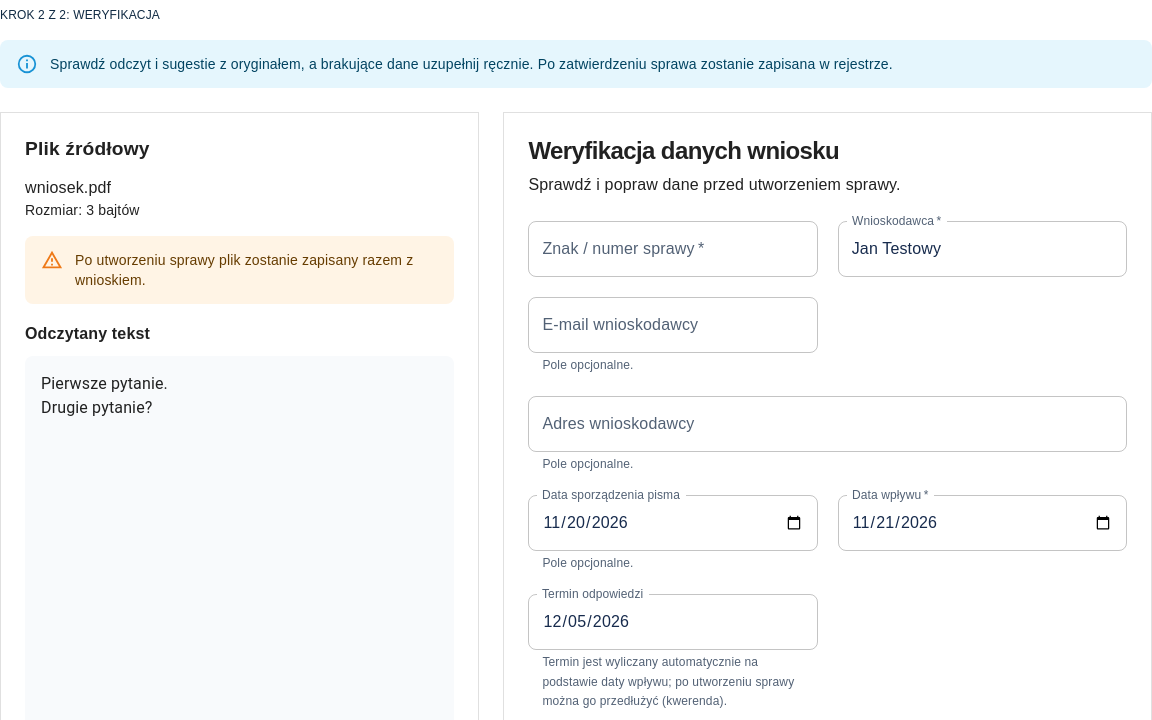
Test: request verification › creates the case through the API and moves to analysis with the backend id
expect the text "wniosek.pdf" is shown: met, box [25,179,111,196]
expect the text "Termin jest wyliczany automatycznie" is shown: met, box [542,655,794,708]
Type "  NOWA/1  " into the field labelled "Znak / numer sprawy *" at coordinates (673, 249), box [528,221,818,277]
(page scrolled)
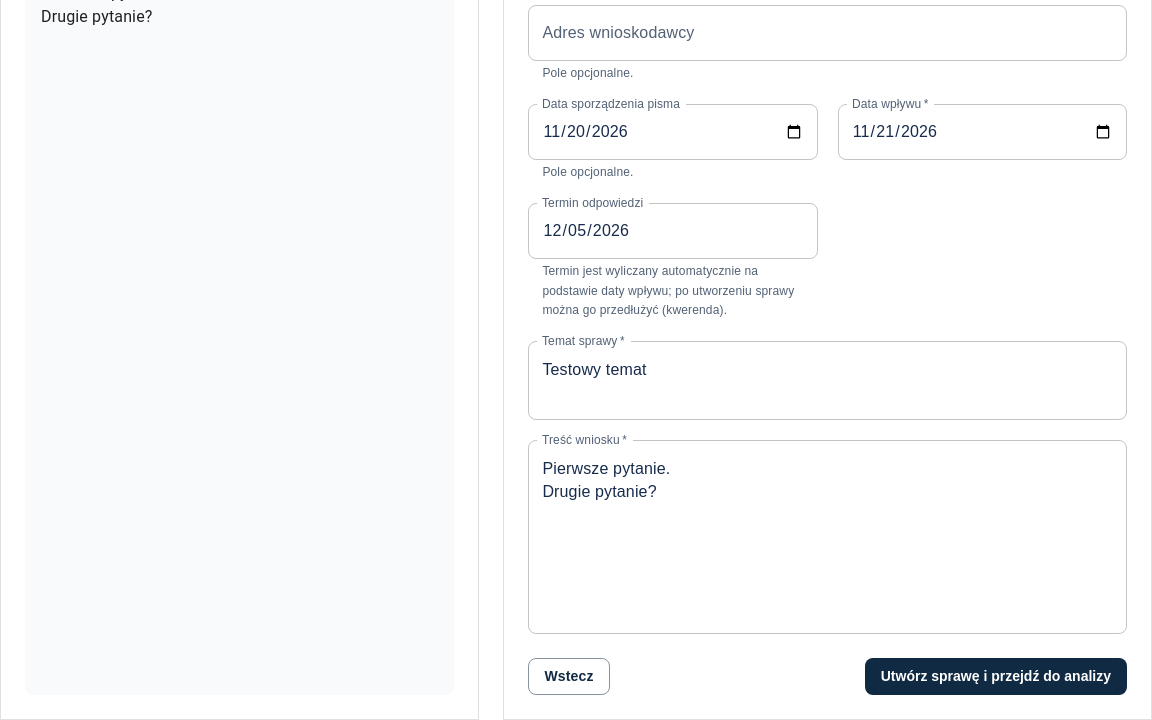
Click the button "Utwórz sprawę i przejdź do analizy" at coordinates (996, 677), box [865,658,1127,695]
(page scrolled)
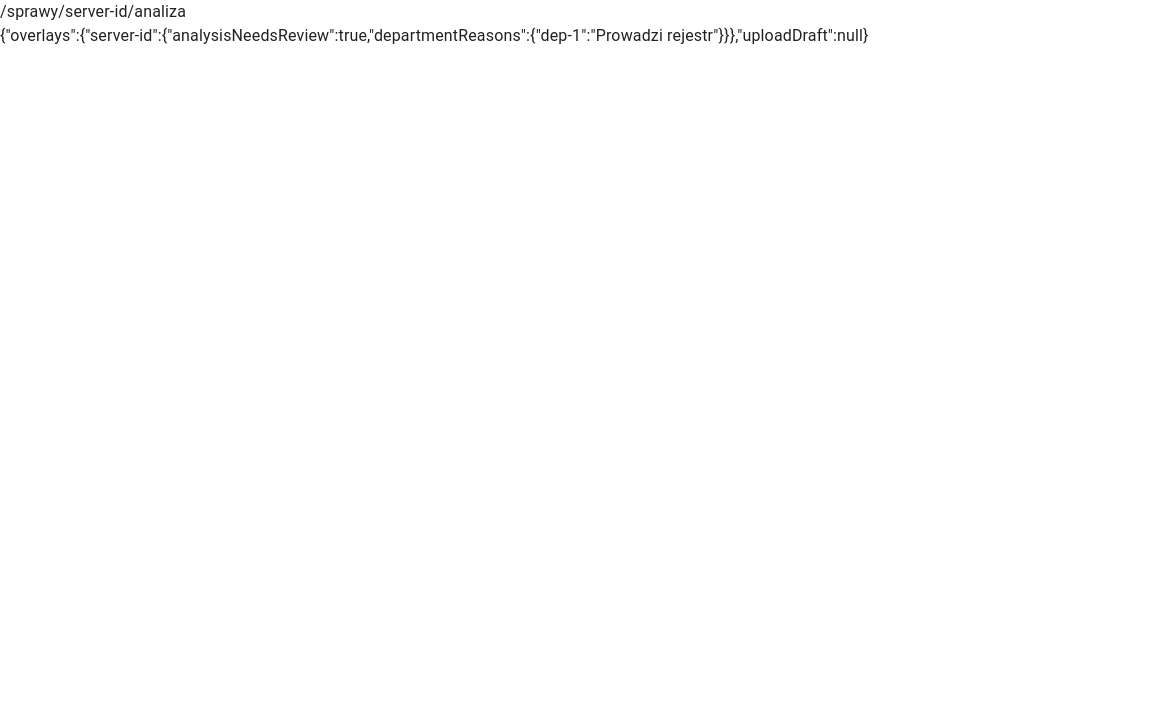
expect the text with test id "path" reads "/sprawy/server-id/analiza": met, box [0,2,186,21]
